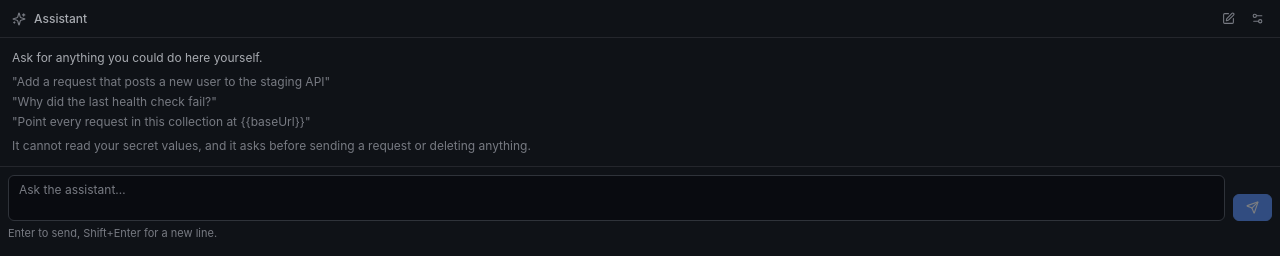
Test case: AssistantPanel › surfaces a failed turn instead of leaving a spinner
This screenshot has width=1280, height=256.
In the text box with placeholder "Ask the assistant…": coordinates (616, 198) [8, 175, 1225, 221], type "send the health check"
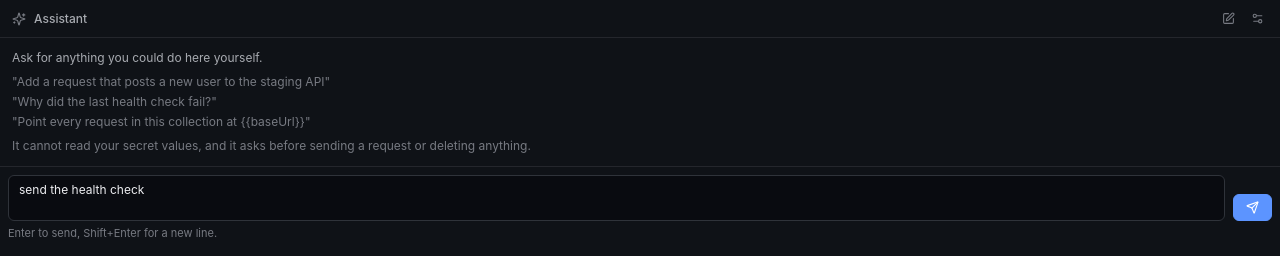
Click the button named "Send": coordinates (1252, 208) [1233, 194, 1272, 221]
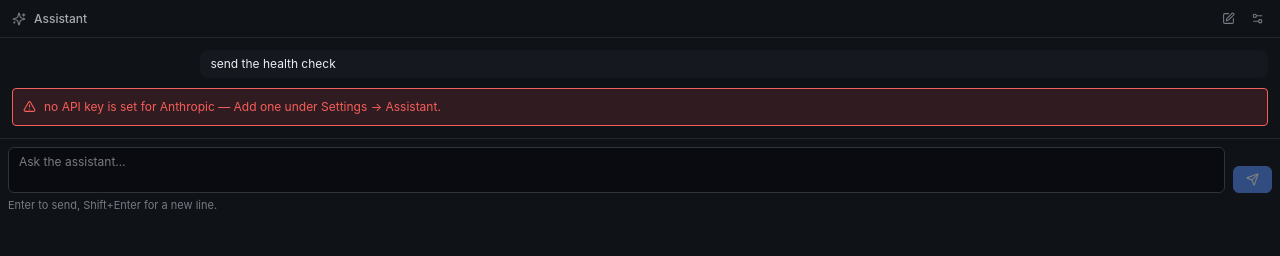
Check: the text "no API key is set" is shown, box [44, 99, 441, 114]
Check: the text "Add one under Settings" is shown, box [44, 99, 441, 114]
